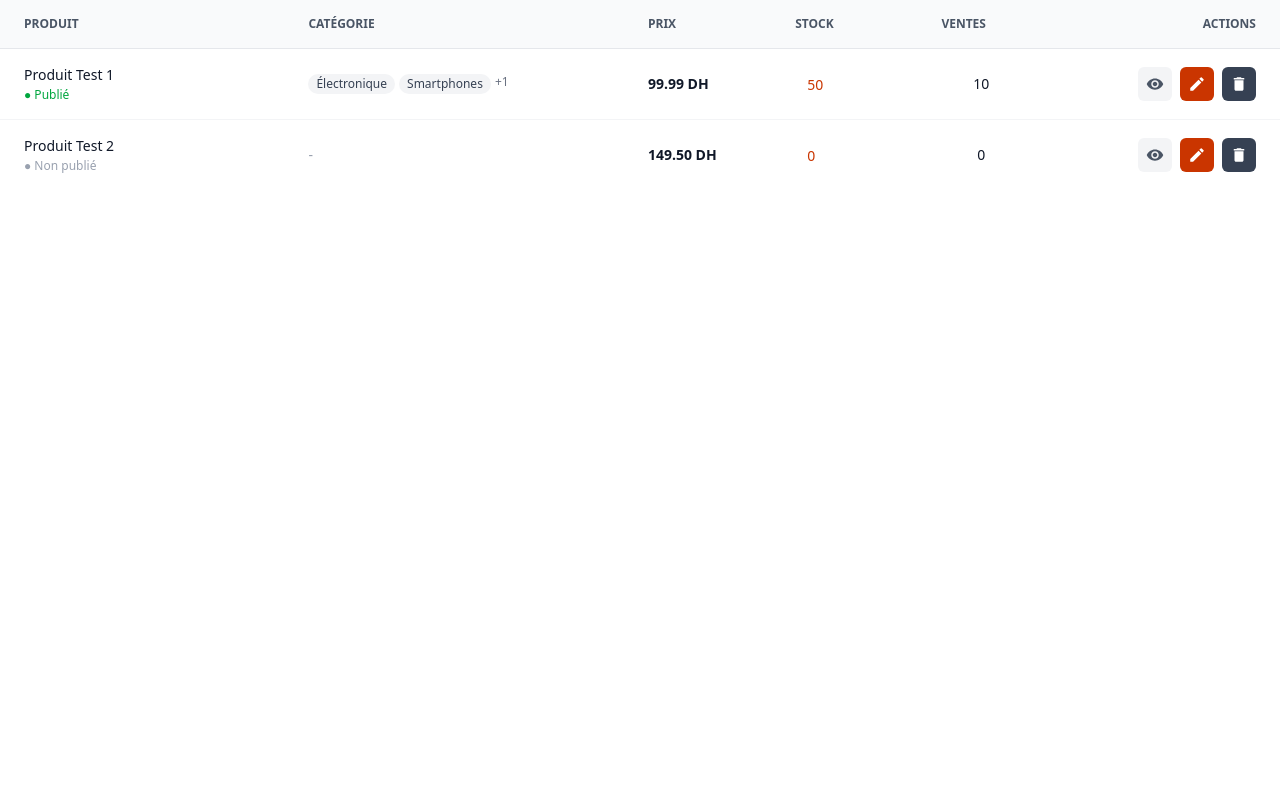
Test: ProductsTable Component › Ouvre et ferme le modal de suppression
Click the button titled "Supprimer" in the row of "Produit Test 1". click: (1239, 84)
box: x1=1222 y1=67 x2=1256 y2=101
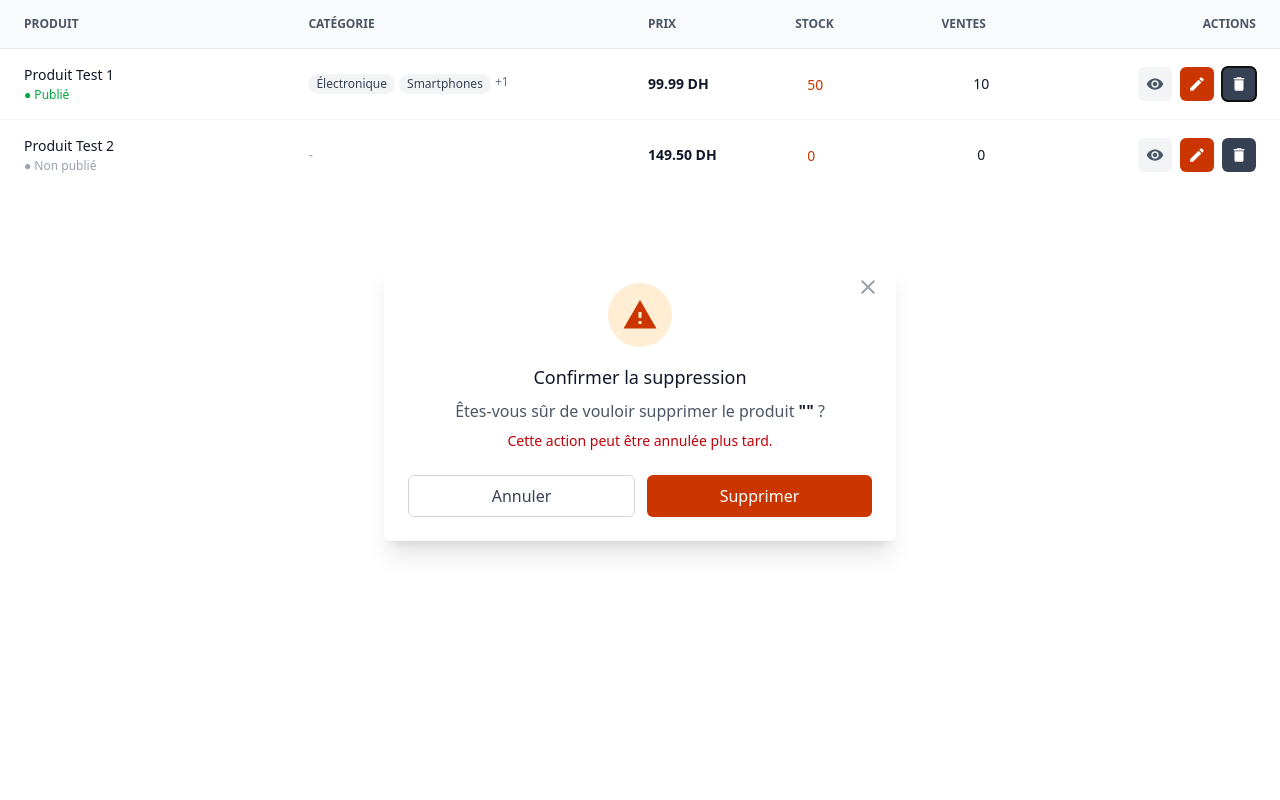
expect the text "Êtes-vous sûr de vouloir supprimer" is shown: met, box x1=455 y1=400 x2=722 y2=422
Click the button "Annuler". click: (522, 496)
box: x1=408 y1=475 x2=635 y2=517
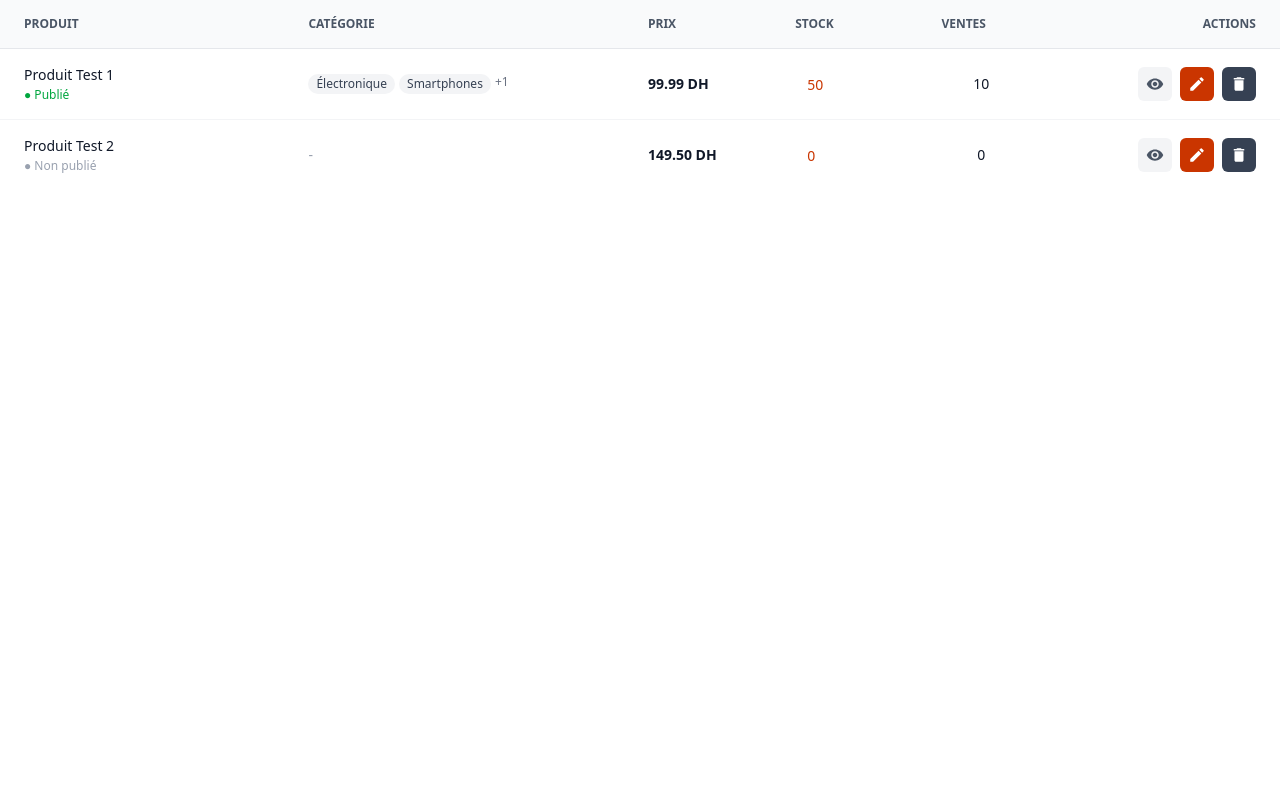
expect the text "Êtes-vous sûr de vouloir supprimer" is gone: met
